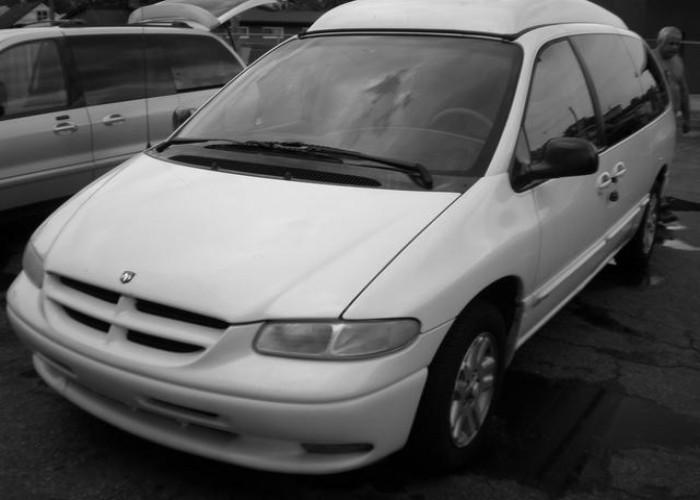car: (4, 1, 672, 477)
